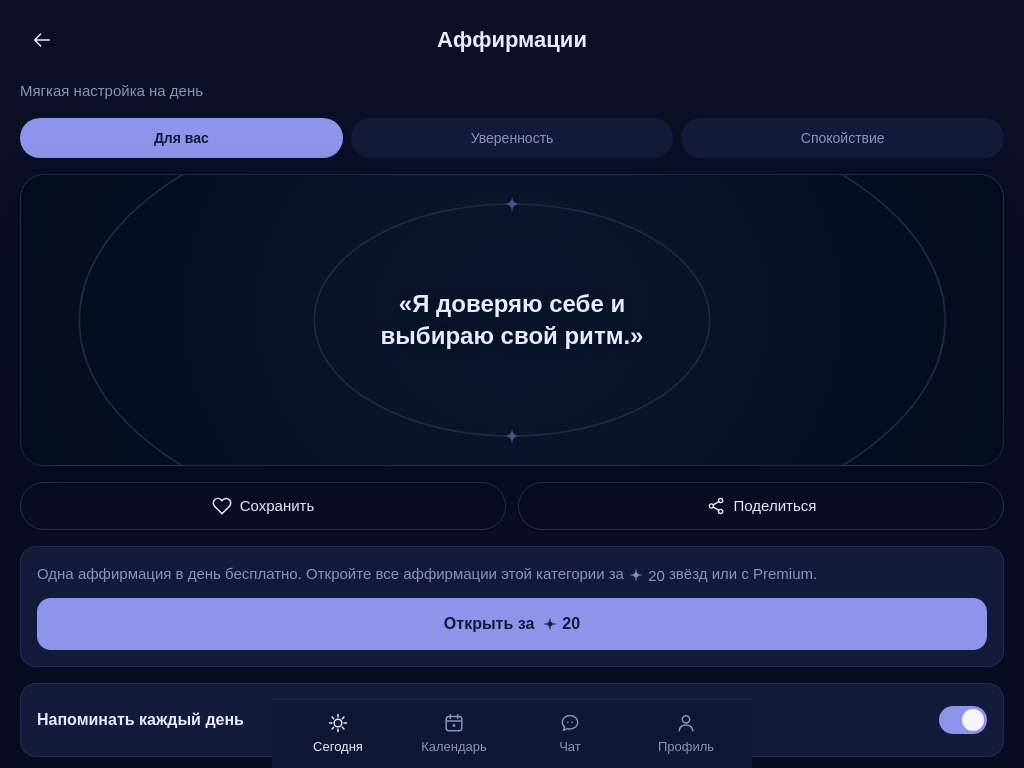
it: AffirmationsScreen › shows locked card for second category and unlocks with stars
Expected: the text "«Я доверяю себе и выбираю свой ритм.»" is shown, x1=367 y1=288 x2=657 y2=352
Click second category
Click the button "Уверенность": (512, 138) x1=351 y1=118 x2=673 y2=158
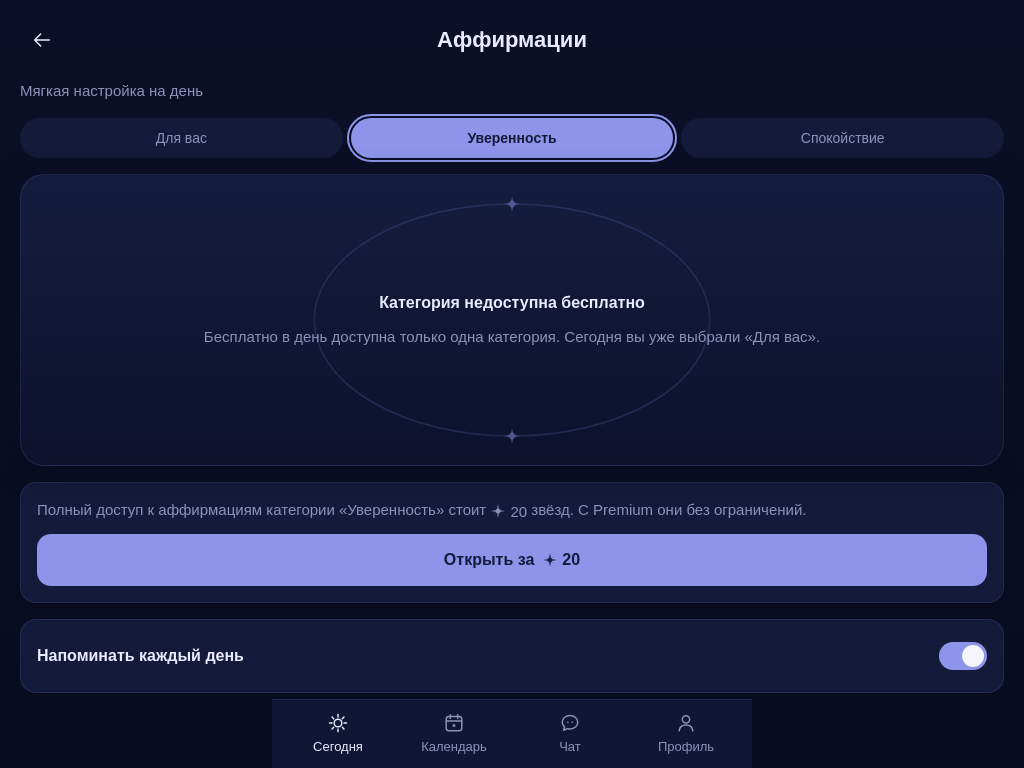
Expected: the heading "Категория недоступна бесплатно" is shown, x1=379 y1=294 x2=645 y2=311
Expected: the text "Сегодня вы уже выбрали «Для вас»" is shown, x1=204 y1=328 x2=820 y2=345
Unlock with stars
Click the button "Открыть за 20": (512, 560) x1=37 y1=534 x2=987 y2=586
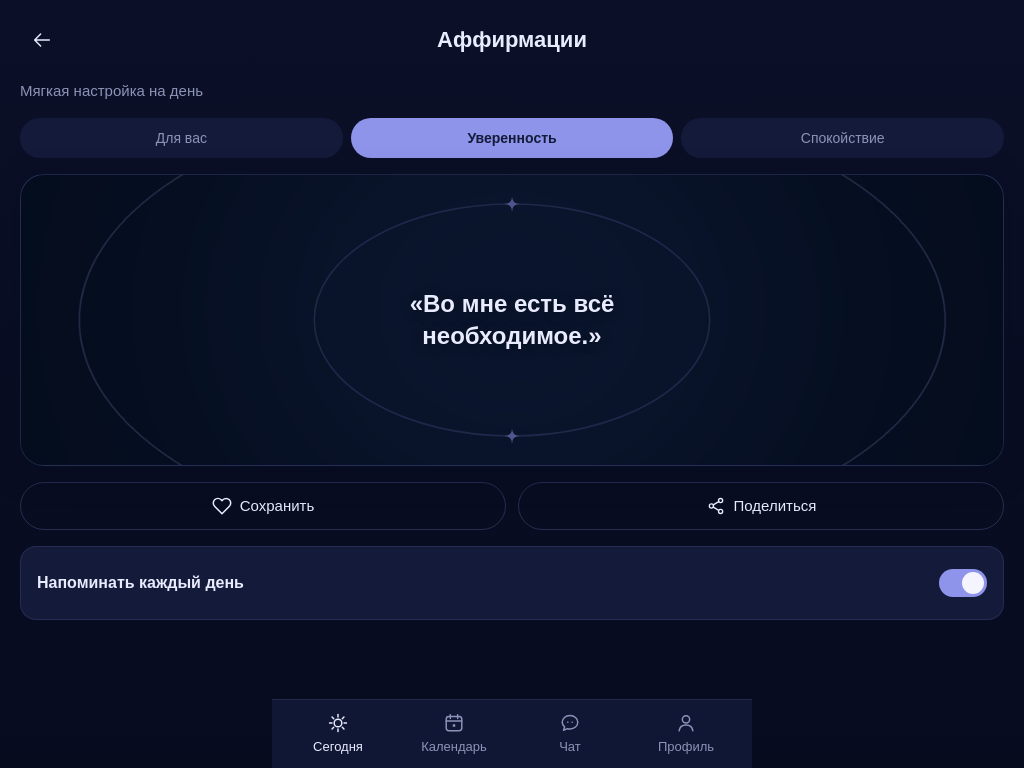
Expected: the text "«Во мне есть всё необходимое.»" is shown, x1=410 y1=290 x2=614 y2=349
